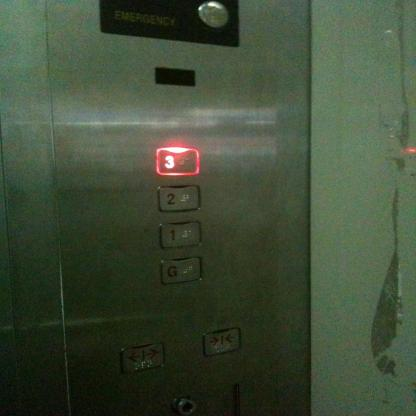1: (158, 218, 204, 249)
2: (156, 182, 203, 213)
3: (153, 146, 203, 178)
G: (157, 255, 204, 285)
close: (201, 324, 242, 358)
keyhole: (166, 392, 206, 416)
open: (118, 340, 166, 375)
